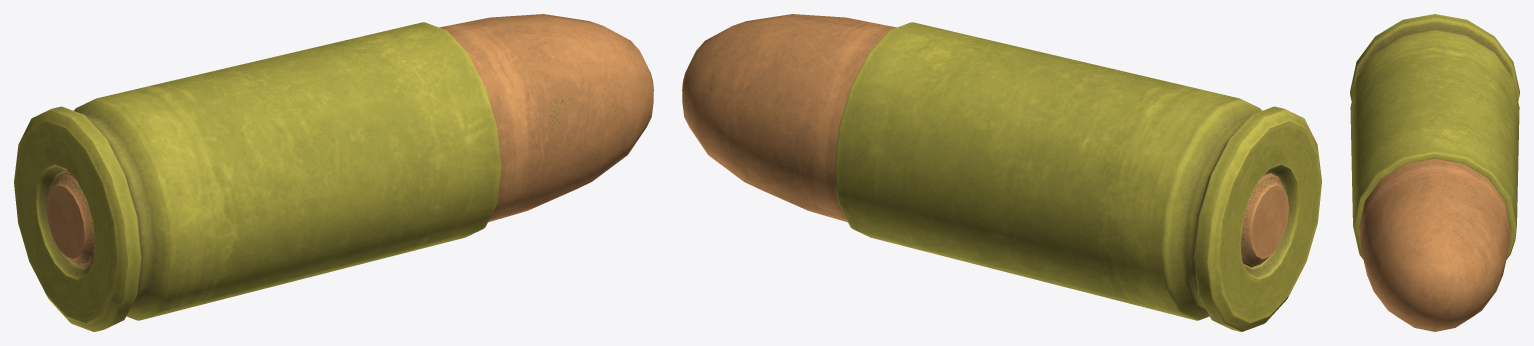
The model's file is Bullet.fbx.
3 renders of one model, left to right at view 1: azimuth 30°, elevation 25°; view 2: azimuth 150°, elevation 25°; view 3: azimuth 270°, elevation 25°, orthographic. The views are drawn at different scales.
Parts seen in each view (by area): view 1: Bullet; view 2: Bullet; view 3: Bullet.
Boxes of the visible parts, <box> form: Bullet: <box>14,14,653,331</box>; Bullet: <box>682,14,1321,331</box>; Bullet: <box>1350,14,1519,331</box>.
Size of the model in its own units: 6.93 by 2.36 by 2.36.
1 material, 1 textured.
